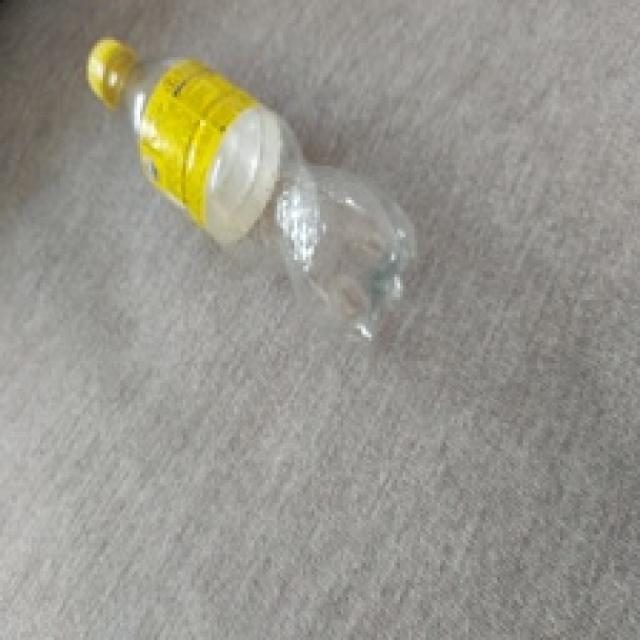Plastic: (85, 34, 420, 346)
